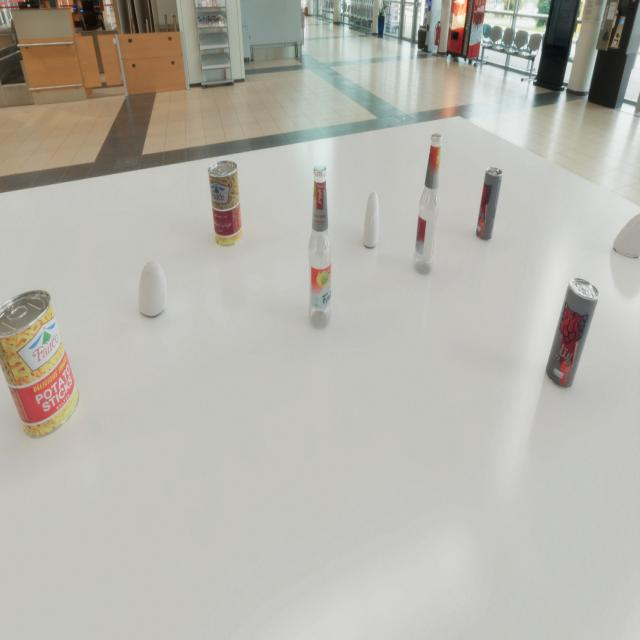Bottle: (413, 133, 443, 274), (308, 165, 332, 328)
Potato_sticks: (0, 290, 79, 438), (208, 160, 242, 247)
Rita_zero_sugar: (546, 278, 599, 389), (476, 167, 503, 241)
Salt: (138, 261, 166, 317), (363, 191, 379, 247)
